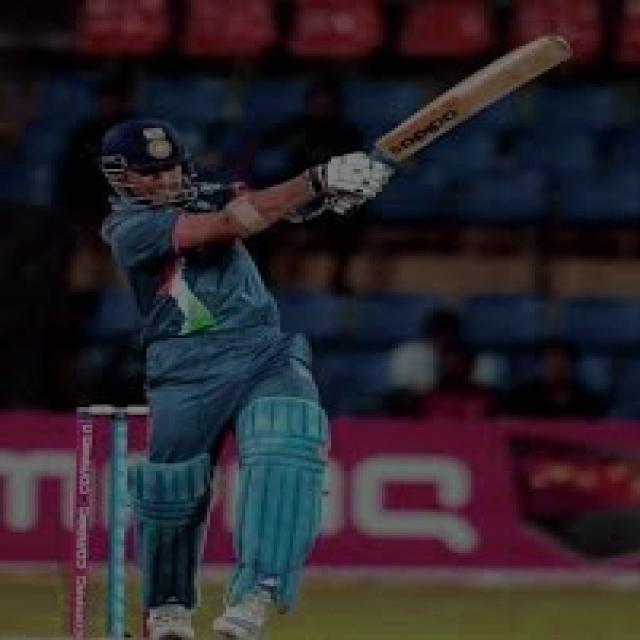toe: (529, 30, 570, 76)
